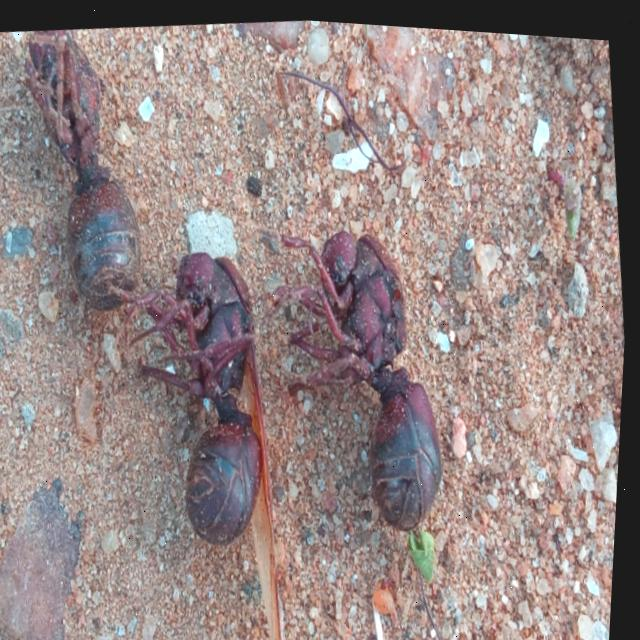Dead-Female-Alate: (87, 237, 306, 640)
Dead-Female-Dealate: (257, 213, 463, 540), (7, 20, 158, 316)
